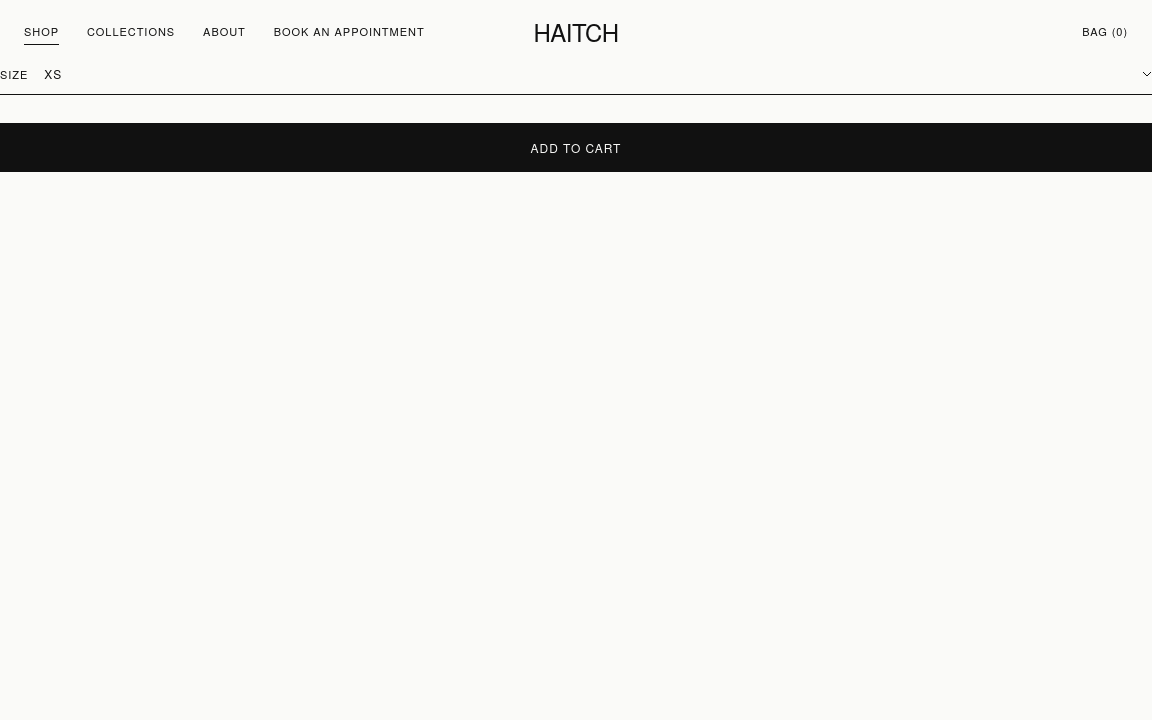
Scenario: bag › the drawer can be closed again
Select "M" in the dropdown labelled "SIZE" at [598, 74], box [44, 64, 1151, 83]
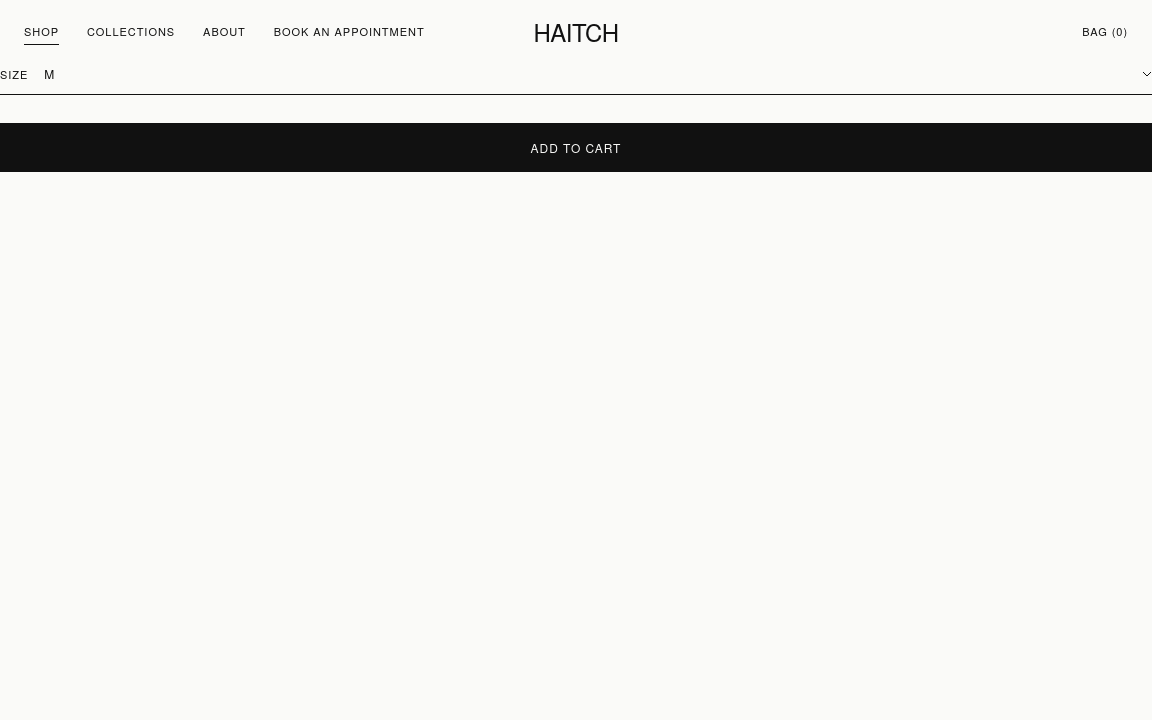
Click the button "ADD TO CART" at [576, 147], box [0, 123, 1151, 172]
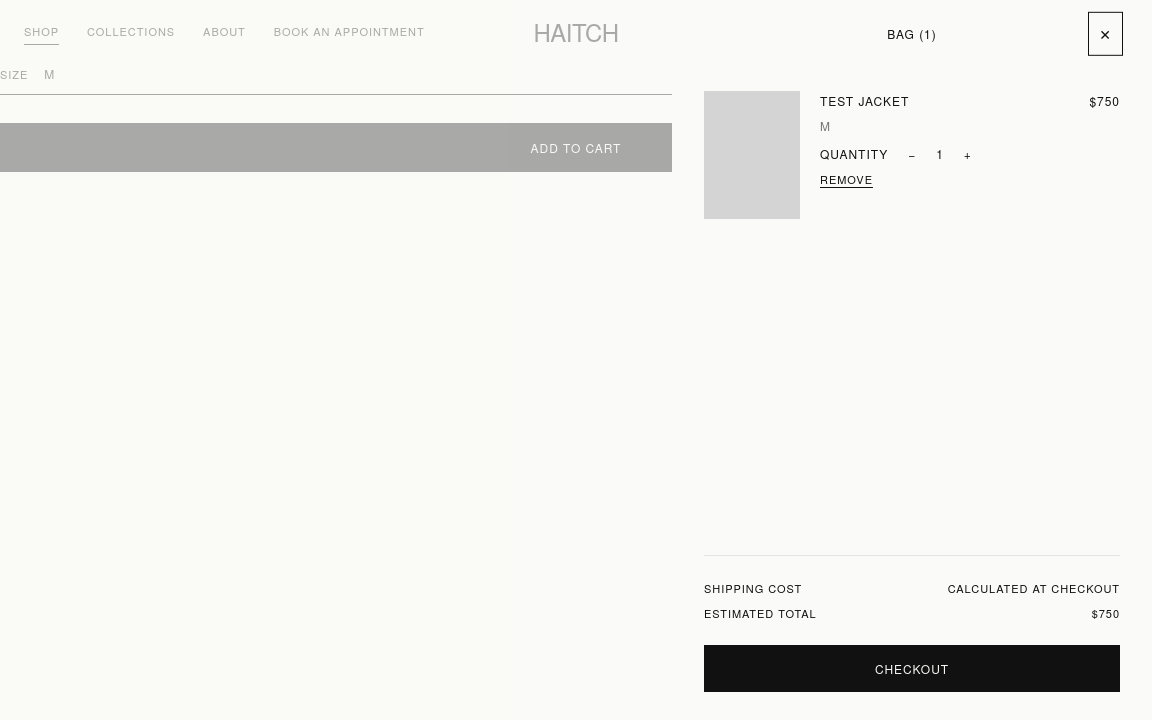
Click the button named "close" at [1106, 34], box [1091, 14, 1120, 53]
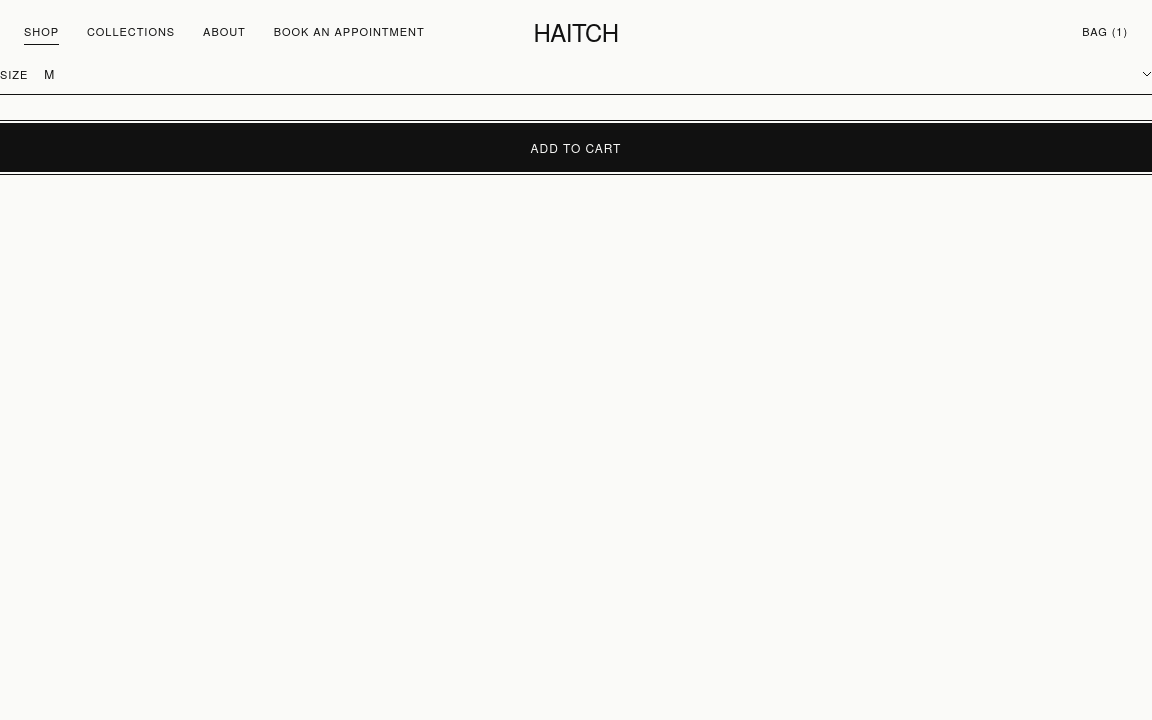
Expected: the dialog is gone
